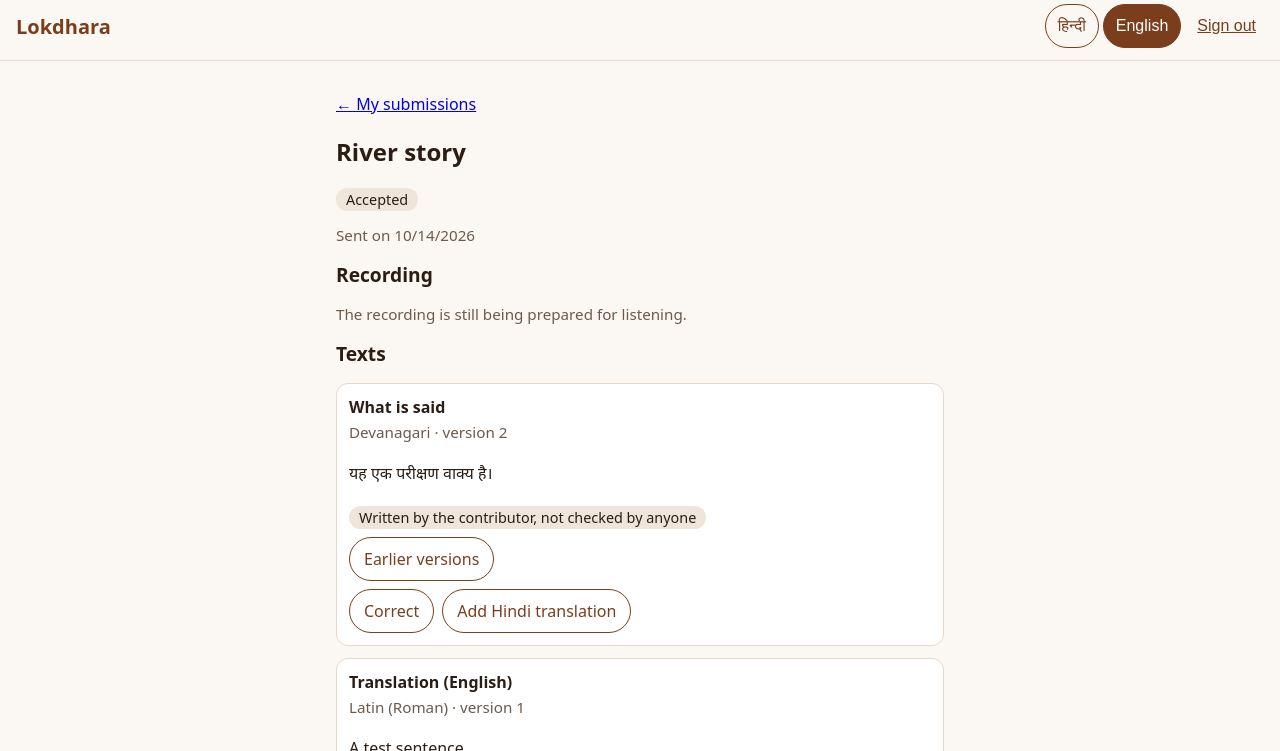
one submission › saves a correction as a new version on top of the one shown
Click the button "Correct".
click(392, 611)  # box [349,589,434,633]
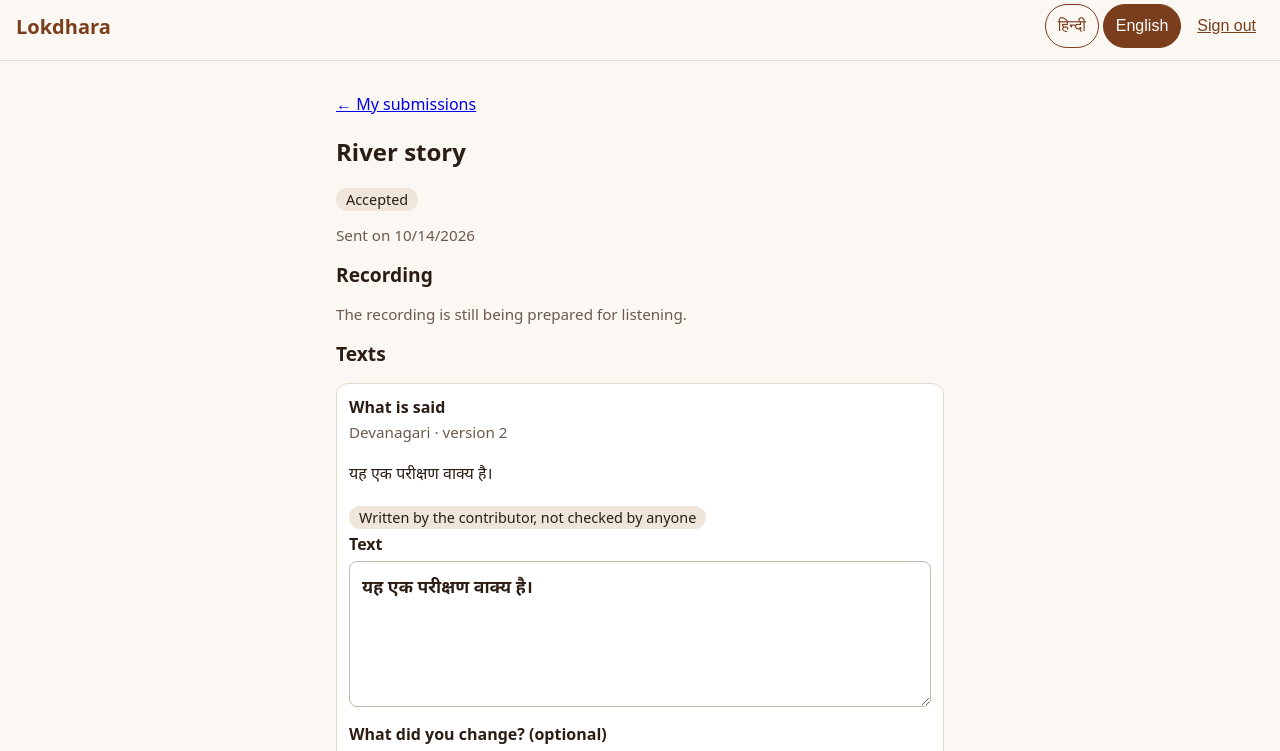
Replace the text in the text box labelled "Text" with "नया वाक्य" at (640, 634), box [349,561,931,707]
(page scrolled)
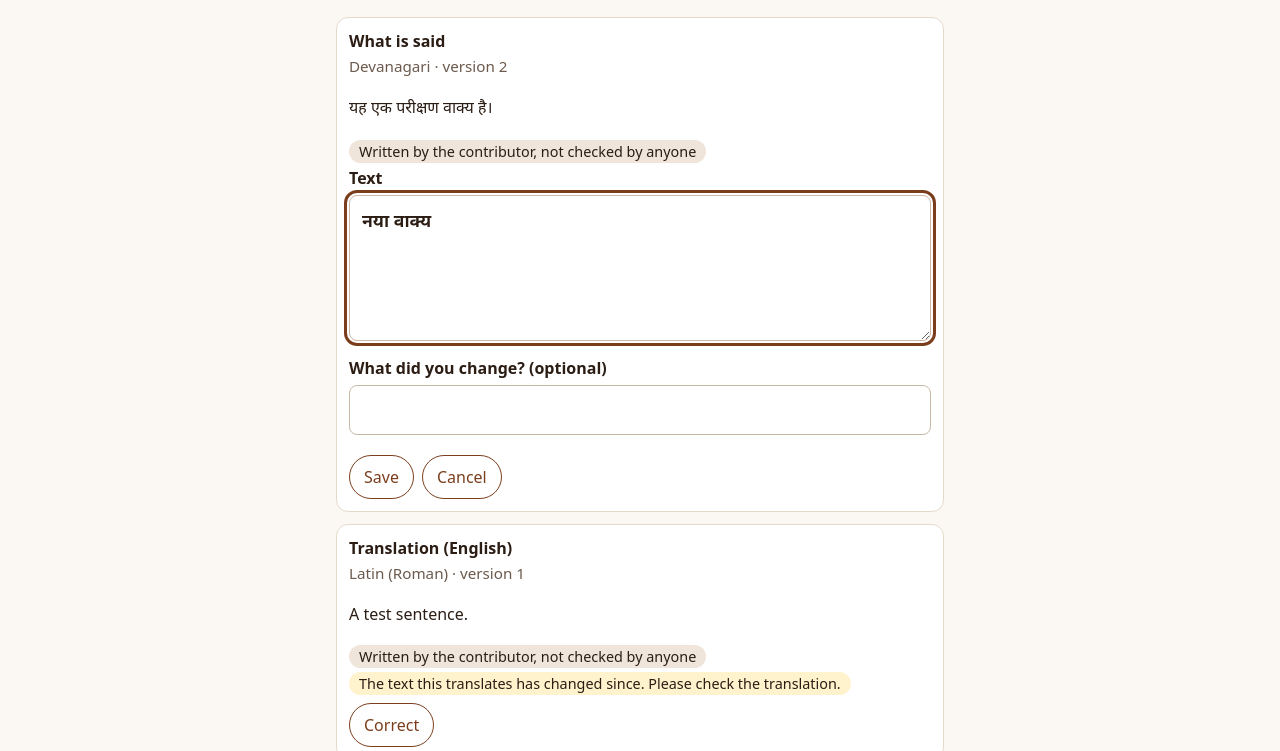
Click the button "Save".
click(381, 477)  # box [349,455,414,499]
(page scrolled)
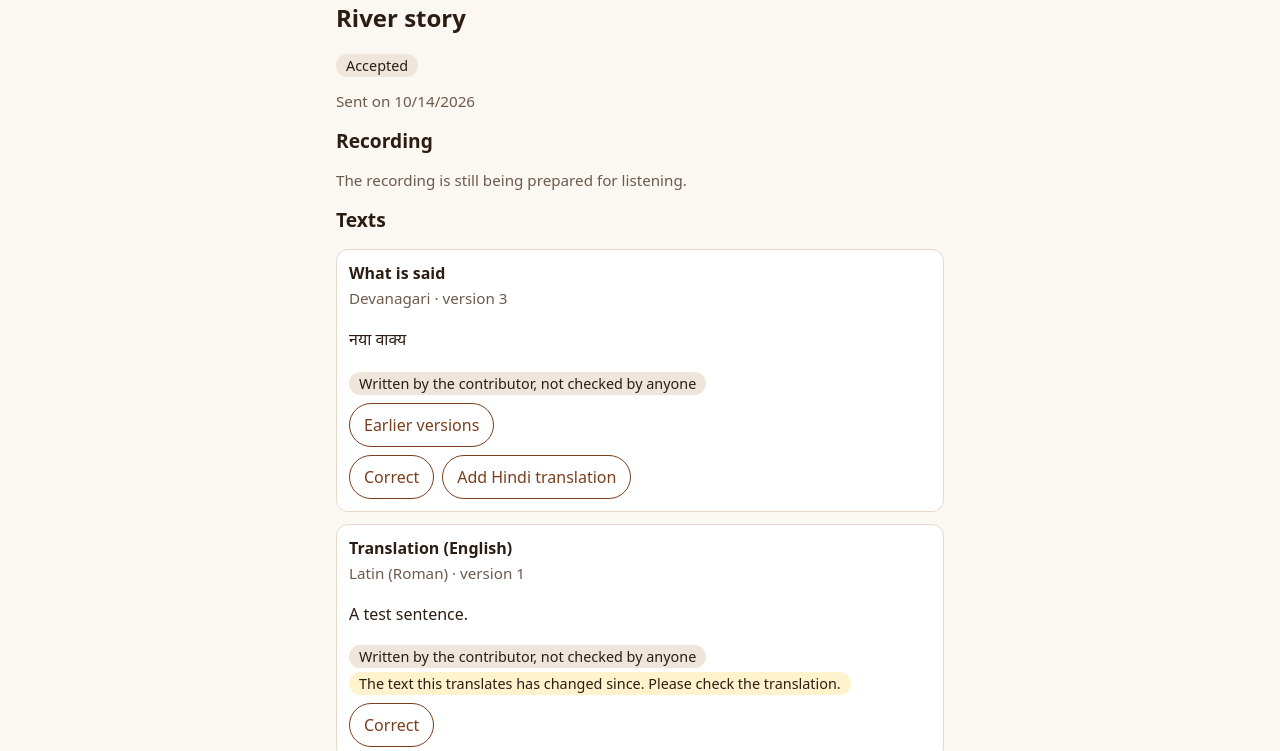
Now the text "Devanagari · version 3" is shown, box [349,288,508,308]
